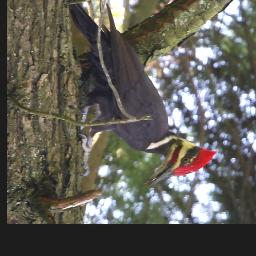Woodpecker: (63, 0, 218, 186)
